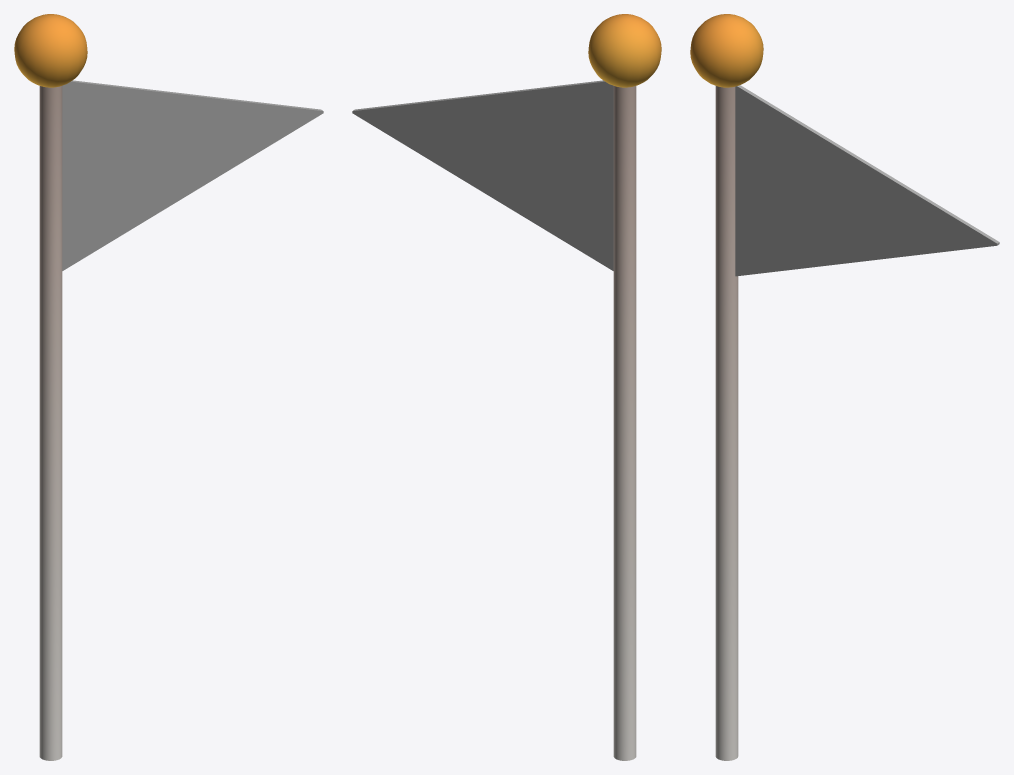
Rendered from Goal.fbx.
3 renders of one model, left to right at view 1: azimuth 30°, elevation 25°; view 2: azimuth 150°, elevation 25°; view 3: azimuth 330°, elevation 25°, orthographic.
Parts seen in each view (by area): view 1: pCube2; view 2: pCube2; view 3: pCube2.
Boxes of the visible parts, left/top/right/bottom form: pCube2: left=14, top=14, right=323, bottom=760; pCube2: left=352, top=14, right=661, bottom=760; pCube2: left=690, top=14, right=999, bottom=760.
Size of the model in its own units: 475 by 1108 by 100.
